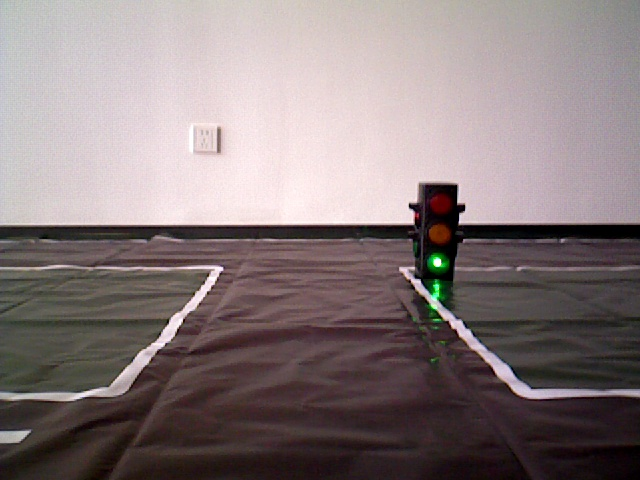green: (418, 188, 454, 274)
